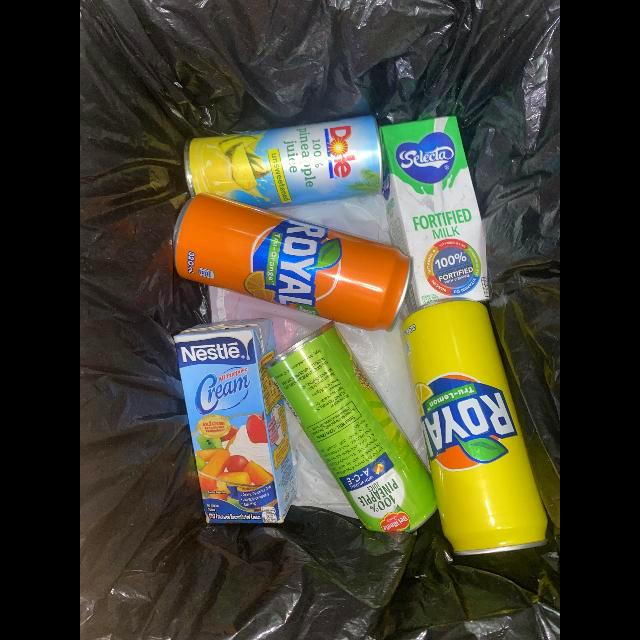aluminum: (400, 301, 548, 554), (266, 322, 437, 534), (173, 193, 411, 332), (184, 115, 382, 208)
